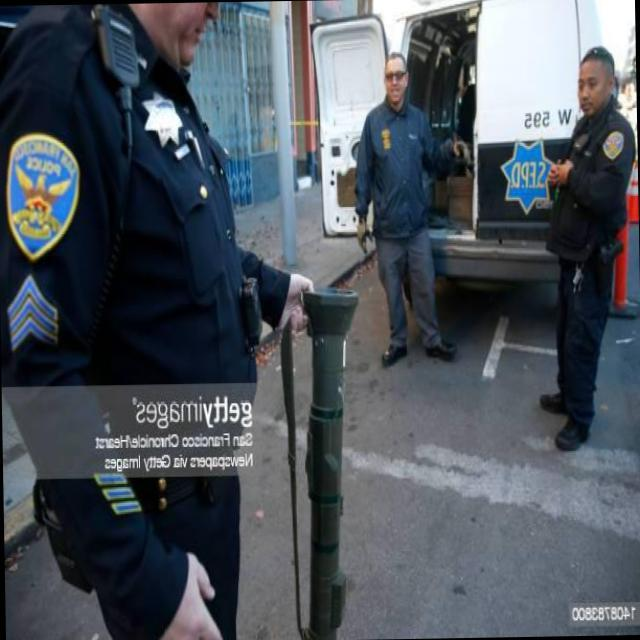rocket: (288, 278, 366, 632)
